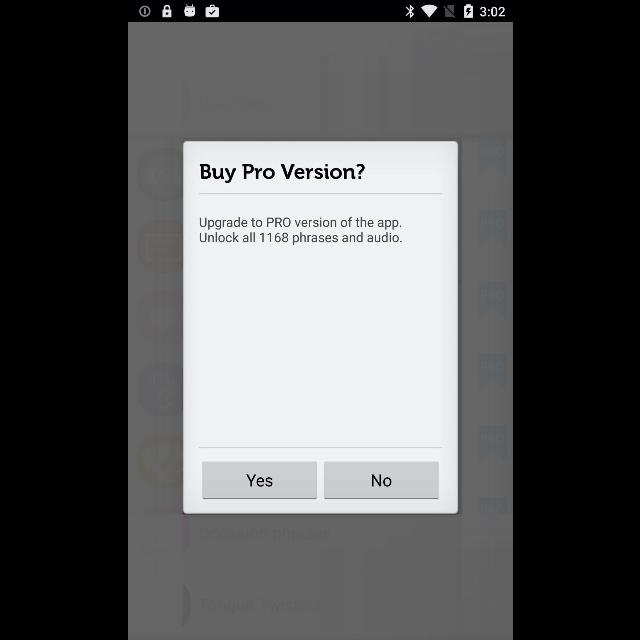panel: (182, 142, 458, 514)
text: (198, 217, 400, 245), (200, 164, 364, 184)
textbutton: (323, 462, 437, 498), (202, 462, 316, 498)
uppertaskbar: (128, 1, 512, 23)
